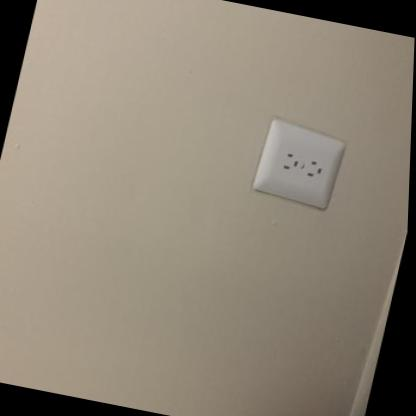OUTLET: (250, 120, 349, 206)
